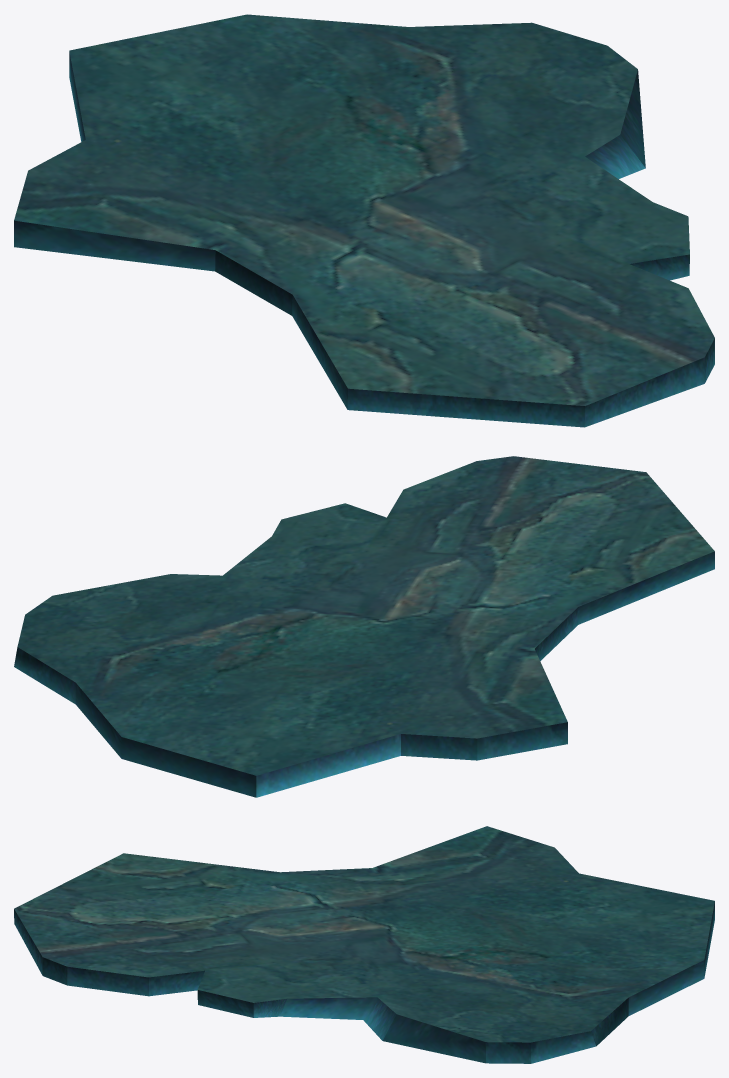
Rendered from yw_mojiediyu_yunmu02.FBX.
The picture shows the model from 3 angles, top to bottom: view 1: azimuth 30°, elevation 25°; view 2: azimuth 150°, elevation 25°; view 3: azimuth 270°, elevation 25°; orthographic projection. The views are drawn at different scales.
Parts seen in each view (by area): view 1: yw_mojiediyu_yunmu02; view 2: yw_mojiediyu_yunmu02; view 3: yw_mojiediyu_yunmu02.
Boxes of the visible parts, x1,y1,x2,y2 form: yw_mojiediyu_yunmu02: (14,14,714,427); yw_mojiediyu_yunmu02: (14,456,714,797); yw_mojiediyu_yunmu02: (14,826,714,1063).
Size of the model in its own units: 285 by 13.13 by 389.
